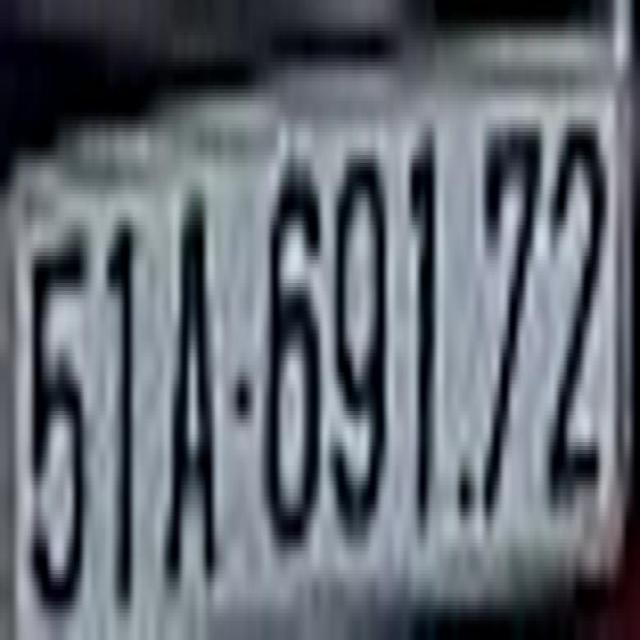1: (403, 109, 437, 528), (104, 198, 134, 617)
2: (554, 120, 606, 493)
5: (31, 236, 85, 616)
6: (265, 152, 321, 536)
7: (484, 120, 542, 528)
9: (336, 143, 386, 520)
A: (165, 194, 216, 582)
